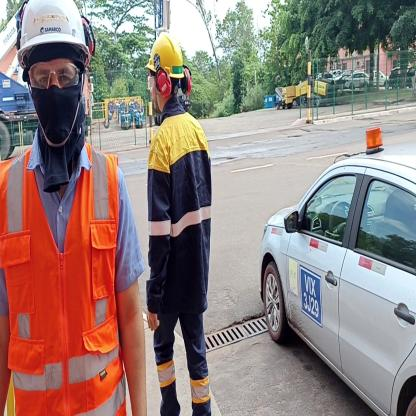Balaclava: (25, 51, 84, 158)
C_eletrica: (152, 118, 208, 309)
Capacete: (18, 0, 92, 54), (148, 30, 186, 77)
colete: (0, 154, 129, 416)
